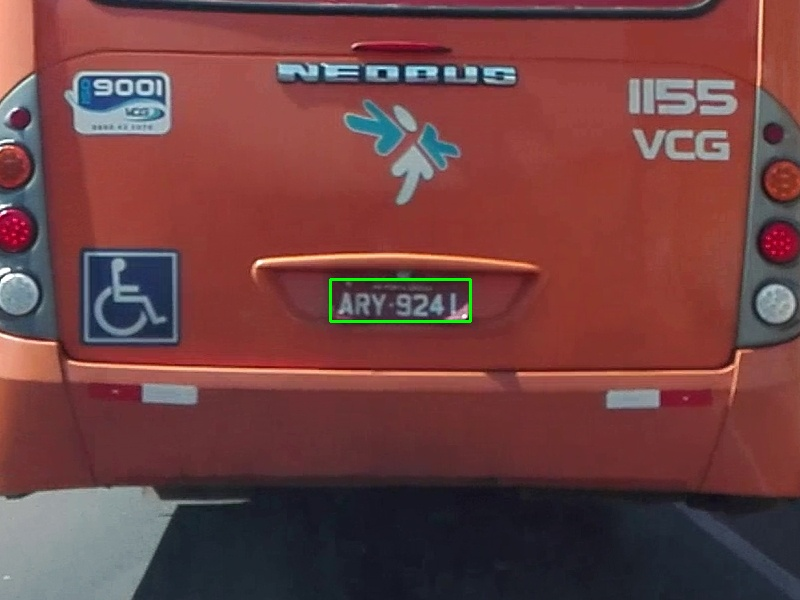placa: (330, 279, 470, 321)
